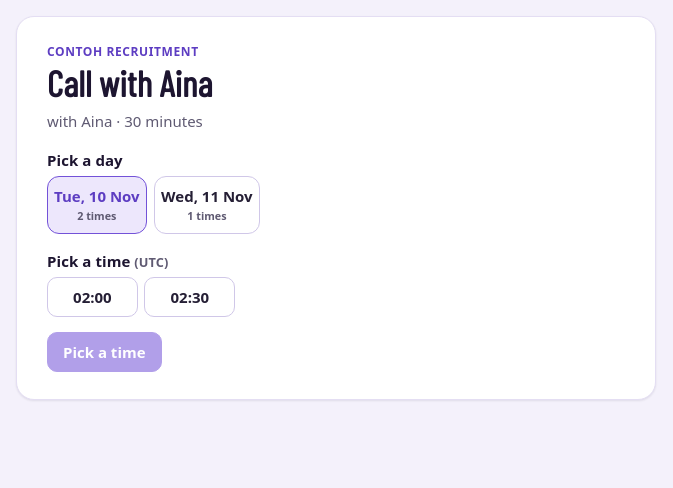
it: booking page › drops a picked time that was taken meanwhile
Click the radio button labelled "02:00": (92, 297) x1=47 y1=277 x2=138 y2=318
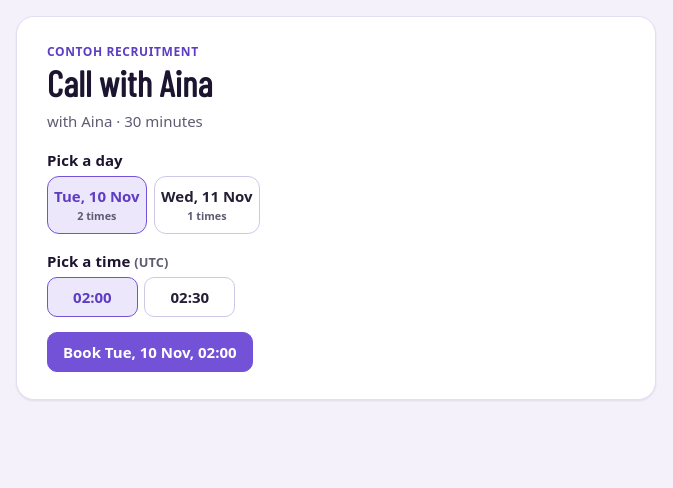
Click the button "Book Tue, 10 Nov, 02:00": (150, 352) x1=47 y1=332 x2=253 y2=372
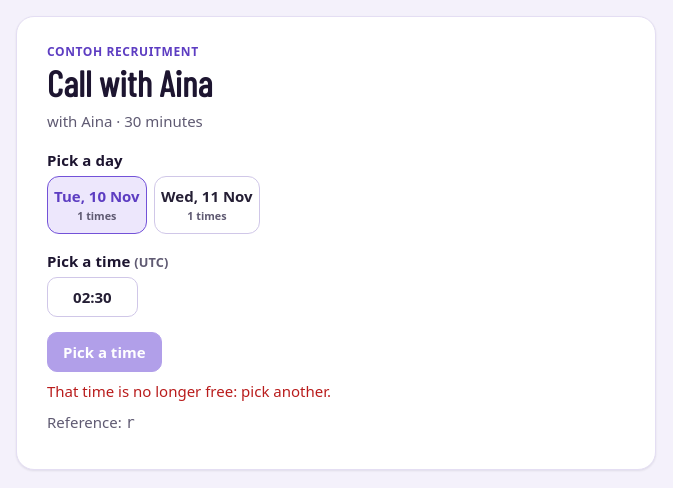
Expected: the text "That time is no longer free: pick another." is shown, x1=47 y1=381 x2=331 y2=401
Expected: the button "Pick a time" is disabled, x1=47 y1=332 x2=162 y2=372
